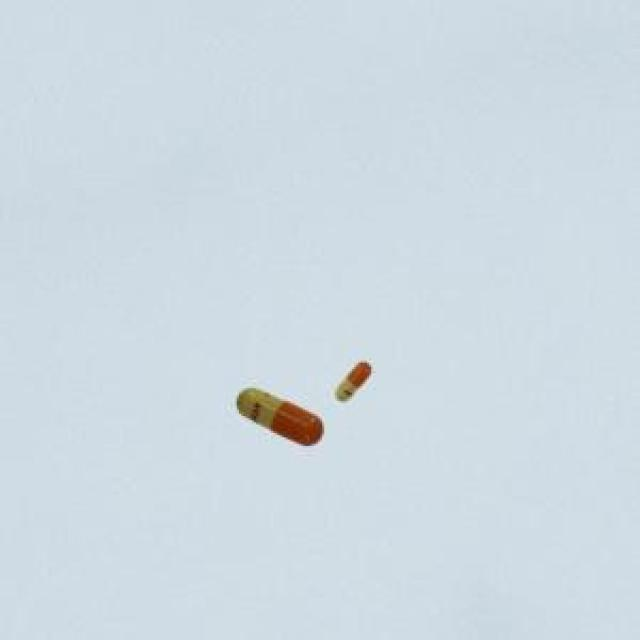Alaxan: (229, 380, 330, 455), (331, 347, 374, 410)
